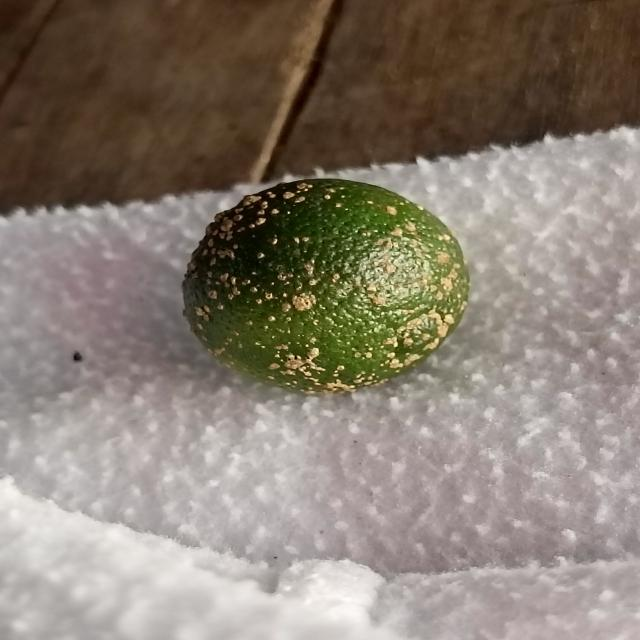scab: (181, 176, 473, 400)
